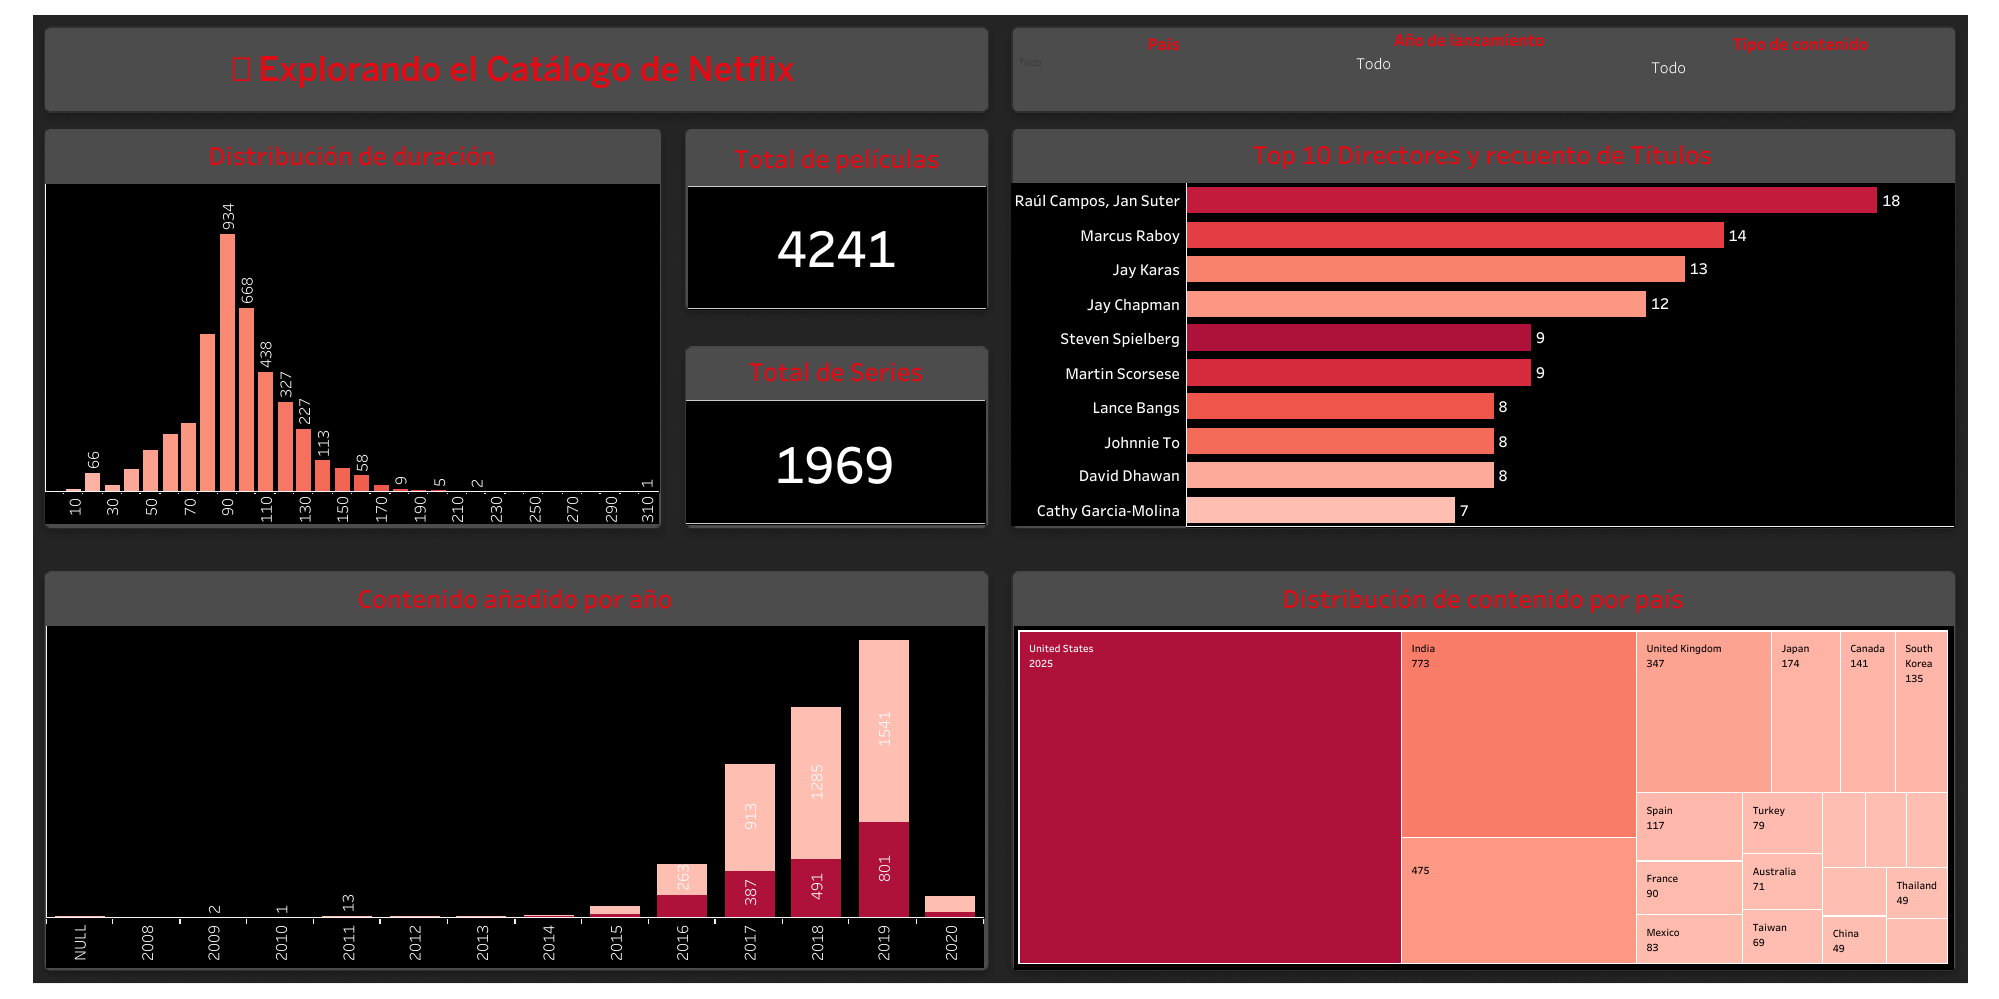

This screenshot's page, from the dashboard's own definition file:
{"tool":"tableau","page":{"name":"Dashboard 1","canvas":[1600,800],"ordinal":0},"visuals":[{"type":"image","param":"C:/Users/emman/Downloads/Frame 1.png","box":[8,8,1584,784]},{"type":"filter","title":"Contenido añadido por año","param":"[federated.17996go0unopt5103knp61j9wsvy].[yr:date_added:ok]","box":[1083,21,185,65]},{"type":"text","box":[35,23,752,65]},{"type":"filter","title":"Distribución de contenido por país","param":"[federated.17996go0unopt5103knp61j9wsvy].[none:country:nk]","box":[813,24,236,63]},{"type":"filter","title":"Contenido añadido por año","param":"[federated.17996go0unopt5103knp61j9wsvy].[none:type:nk]","box":[1319,24,243,64]},{"type":"worksheet","title":"Top 10 Directores y recuento de Títulos","mark":"Automatic","rows":["director"],"cols":["title"],"box":[809,103,754,318]},{"type":"worksheet","title":"Distribución de duración","mark":"Bar","rows":["title"],"cols":["Duración en minutos (copy) (bin)"],"box":[36,104,491,315]},{"type":"worksheet","title":"Total de películas","mark":"Automatic","rows":["type"],"box":[550,106,239,142]},{"type":"worksheet","title":"Total de Series","mark":"Automatic","rows":["type"],"box":[549,277,240,143]},{"type":"worksheet","title":"Contenido añadido por año","mark":"Bar","rows":["title"],"cols":["date_added"],"box":[37,458,750,316]},{"type":"worksheet","title":"Distribución de contenido por país","mark":"Automatic","box":[811,458,751,318]}]}

Visuals, with their boxes in screenshot pixels (x1, y1, x2, y2), scaled from the page's 1600x800 canvas onto the 1999x999 screenshot:
image: select_region(10, 10, 1989, 989)
"Contenido añadido por año" filter: select_region(1353, 26, 1584, 107)
text: select_region(44, 29, 983, 110)
"Distribución de contenido por país" filter: select_region(1016, 30, 1311, 109)
"Contenido añadido por año" filter: select_region(1648, 30, 1952, 110)
"Top 10 Directores y recuento de Títulos" worksheet: select_region(1011, 129, 1953, 526)
"Distribución de duración" worksheet (Bar marks): select_region(45, 130, 658, 523)
"Total de películas" worksheet: select_region(687, 132, 986, 310)
"Total de Series" worksheet: select_region(686, 346, 986, 524)
"Contenido añadido por año" worksheet (Bar marks): select_region(46, 572, 983, 967)
"Distribución de contenido por país" worksheet: select_region(1013, 572, 1952, 969)
